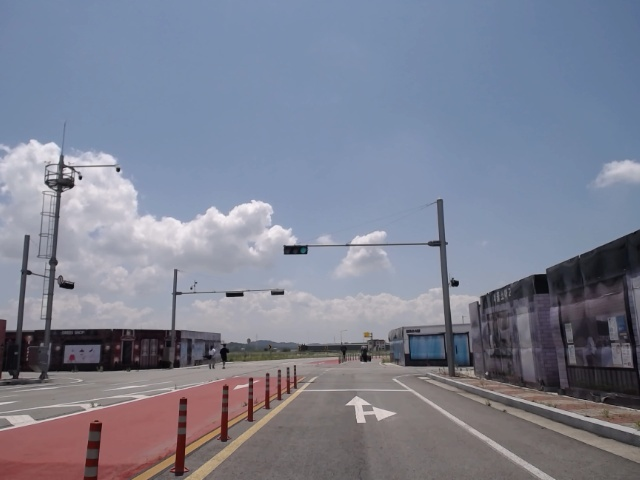green_3: (283, 245, 308, 254)
